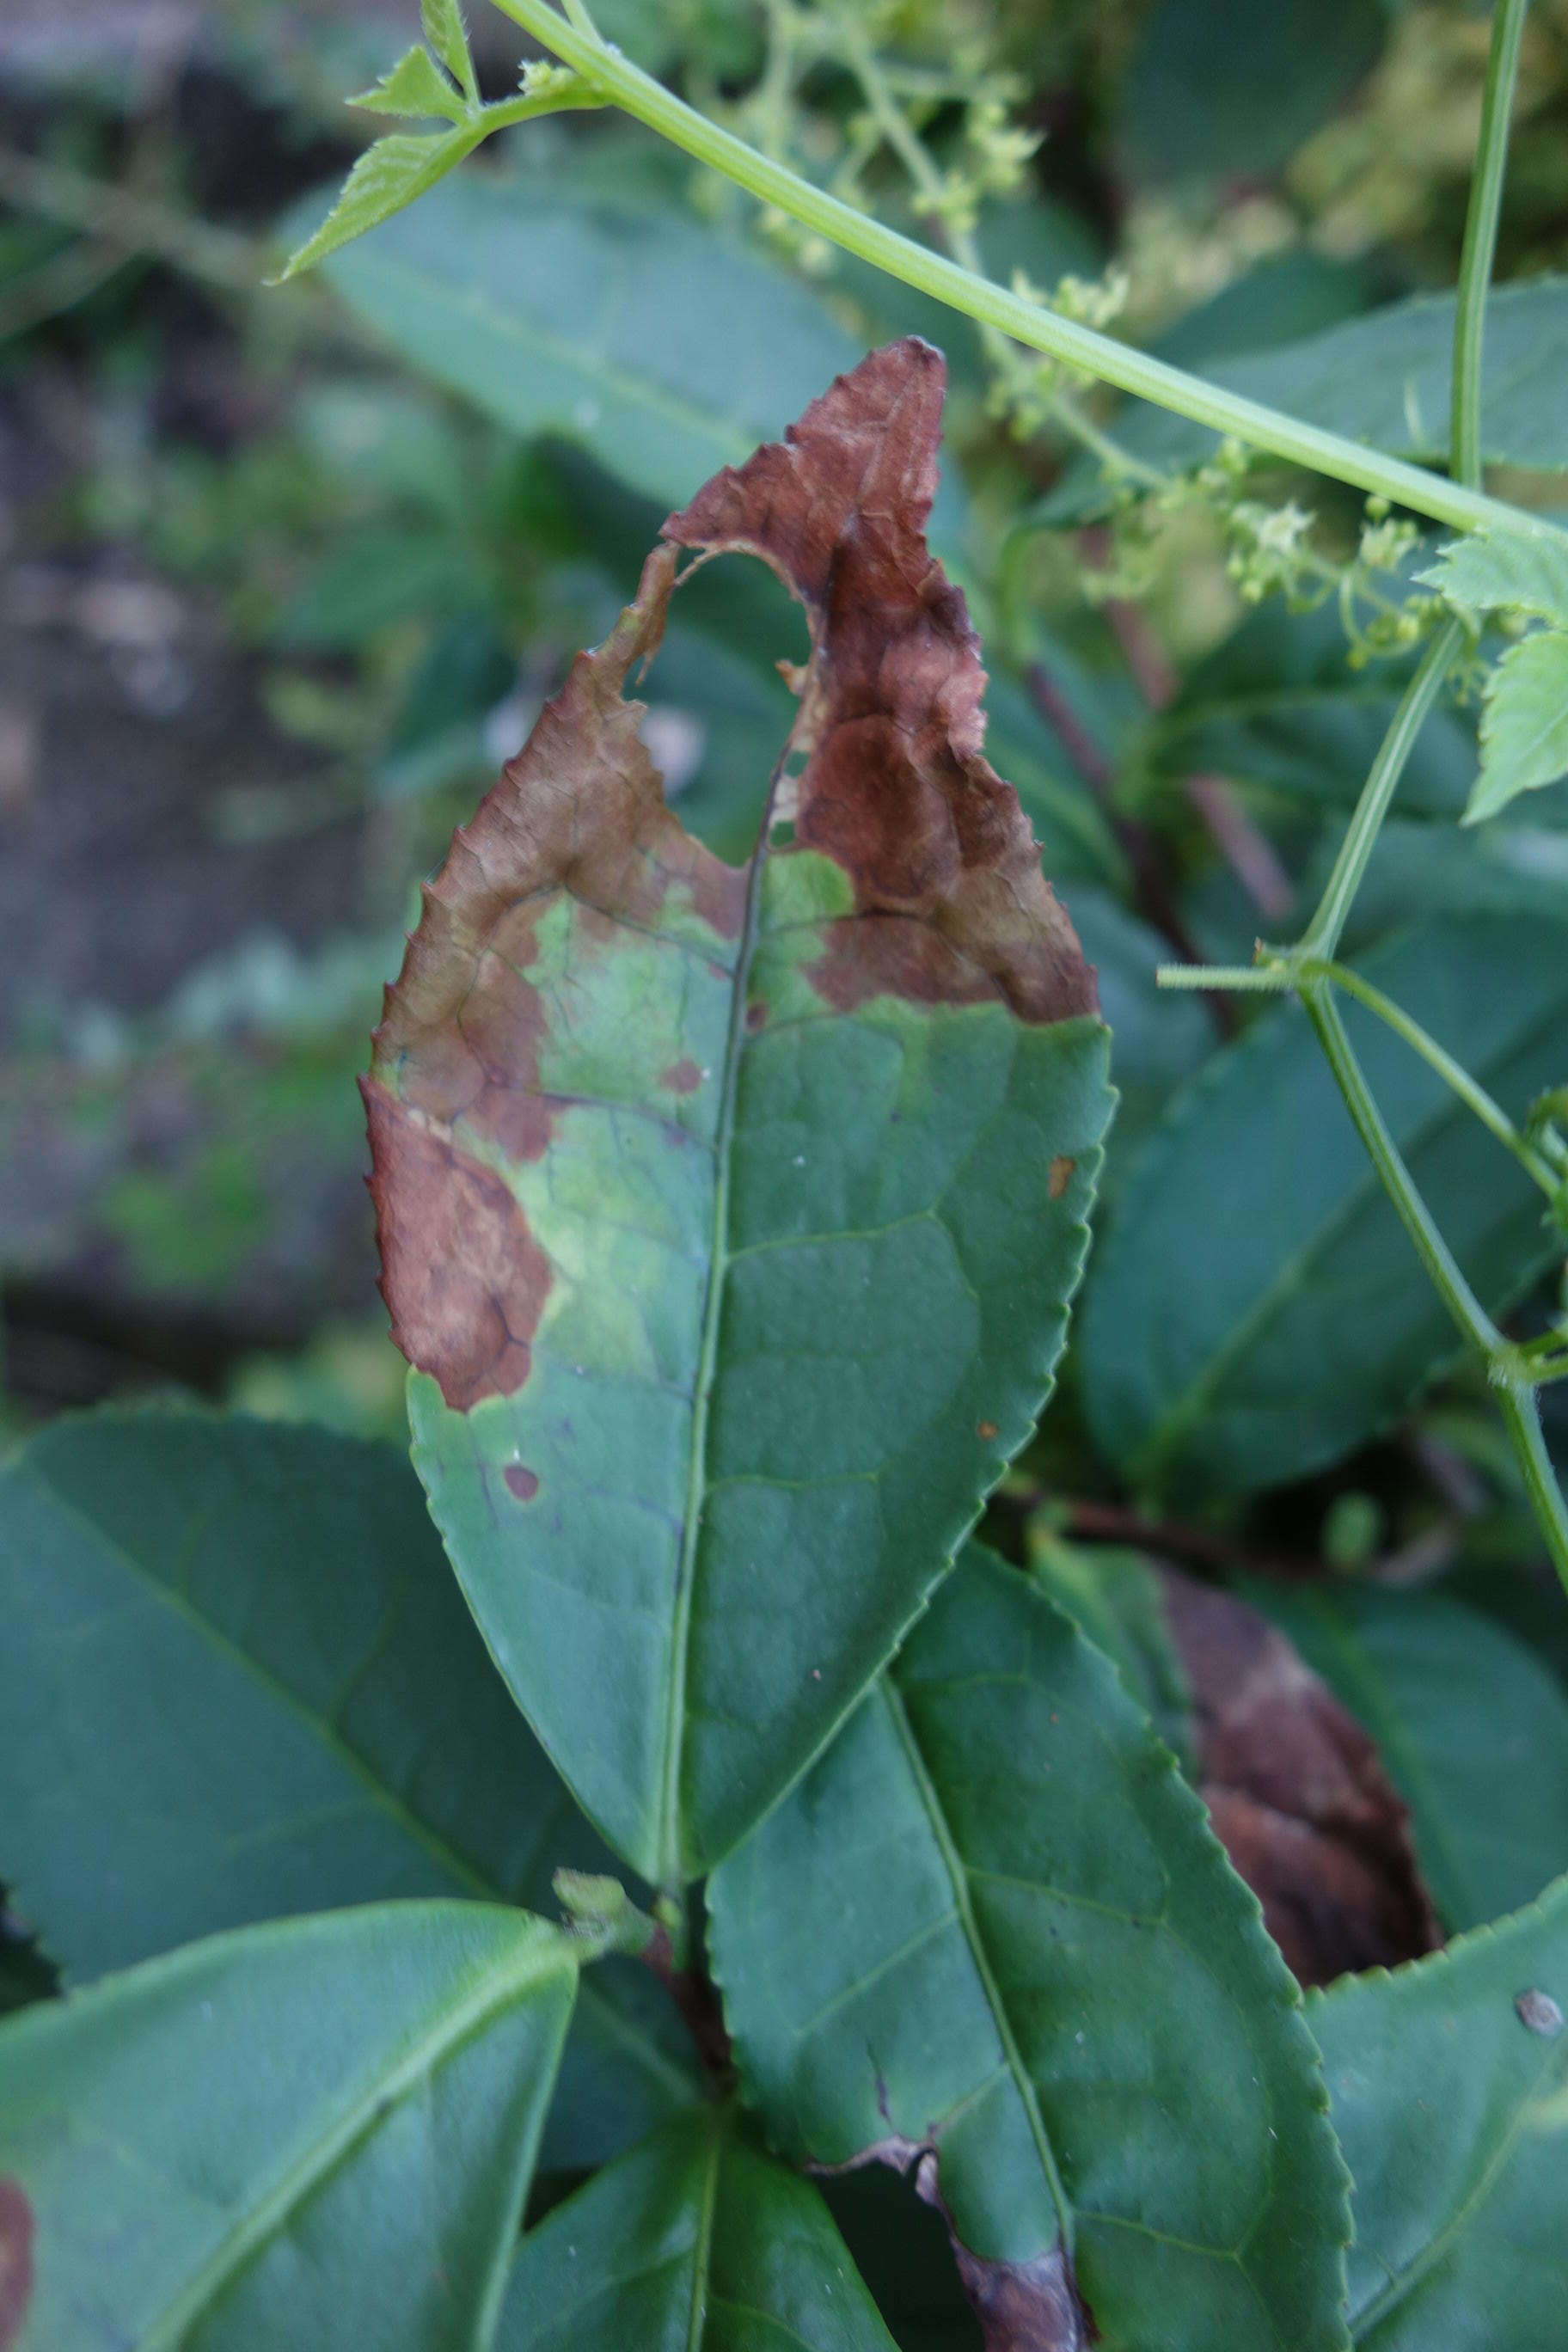tanju_high: (357, 350, 1127, 1902)
